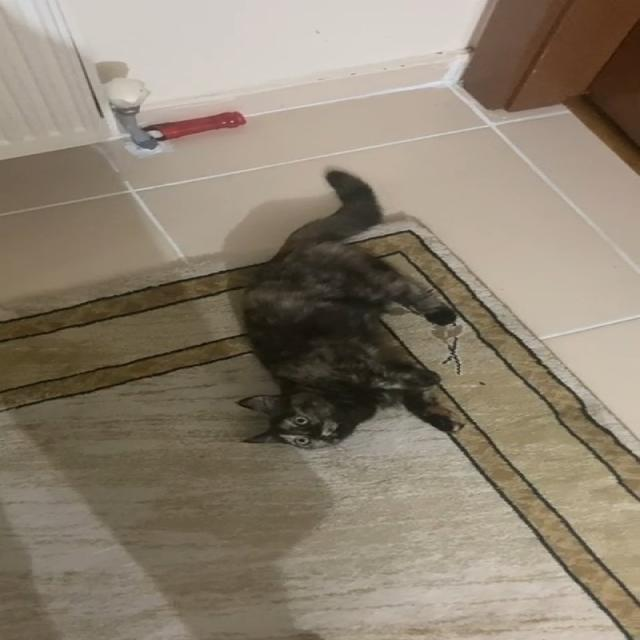authorized: (234, 168, 466, 449)
